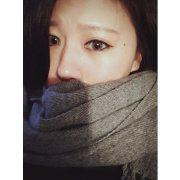WRONG: (31, 19, 137, 125)
